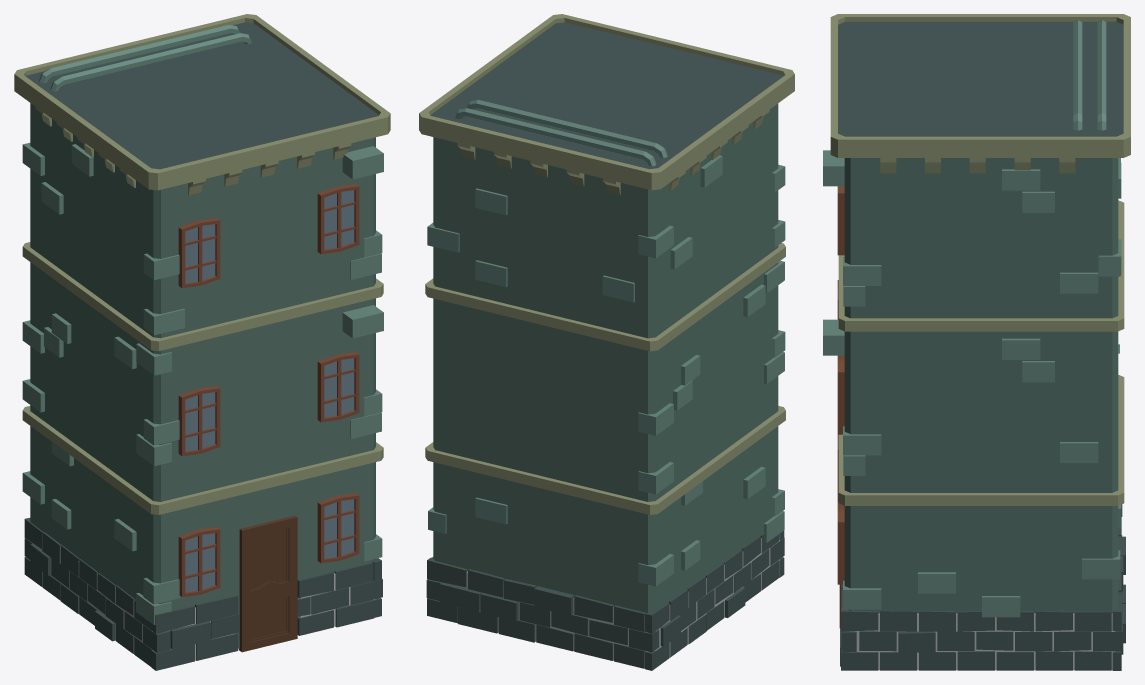
File: 3Story_Small_Mat.glb
3 views of the same model, side by side, from view 1: azimuth 30°, elevation 25°; view 2: azimuth 150°, elevation 25°; view 3: azimuth 270°, elevation 25° (orthographic). The views are drawn at different scales.
Parts seen in each view (by area): view 1: 3Story_Small_Mat; view 2: 3Story_Small_Mat; view 3: 3Story_Small_Mat.
Part boxes in pixels (x1=…): 3Story_Small_Mat: x1=14, y1=14, x2=390, y2=670; 3Story_Small_Mat: x1=419, y1=14, x2=794, y2=670; 3Story_Small_Mat: x1=823, y1=14, x2=1130, y2=670.
Bounding box in the file's own units: 1.91 × 3.85 × 1.97.
